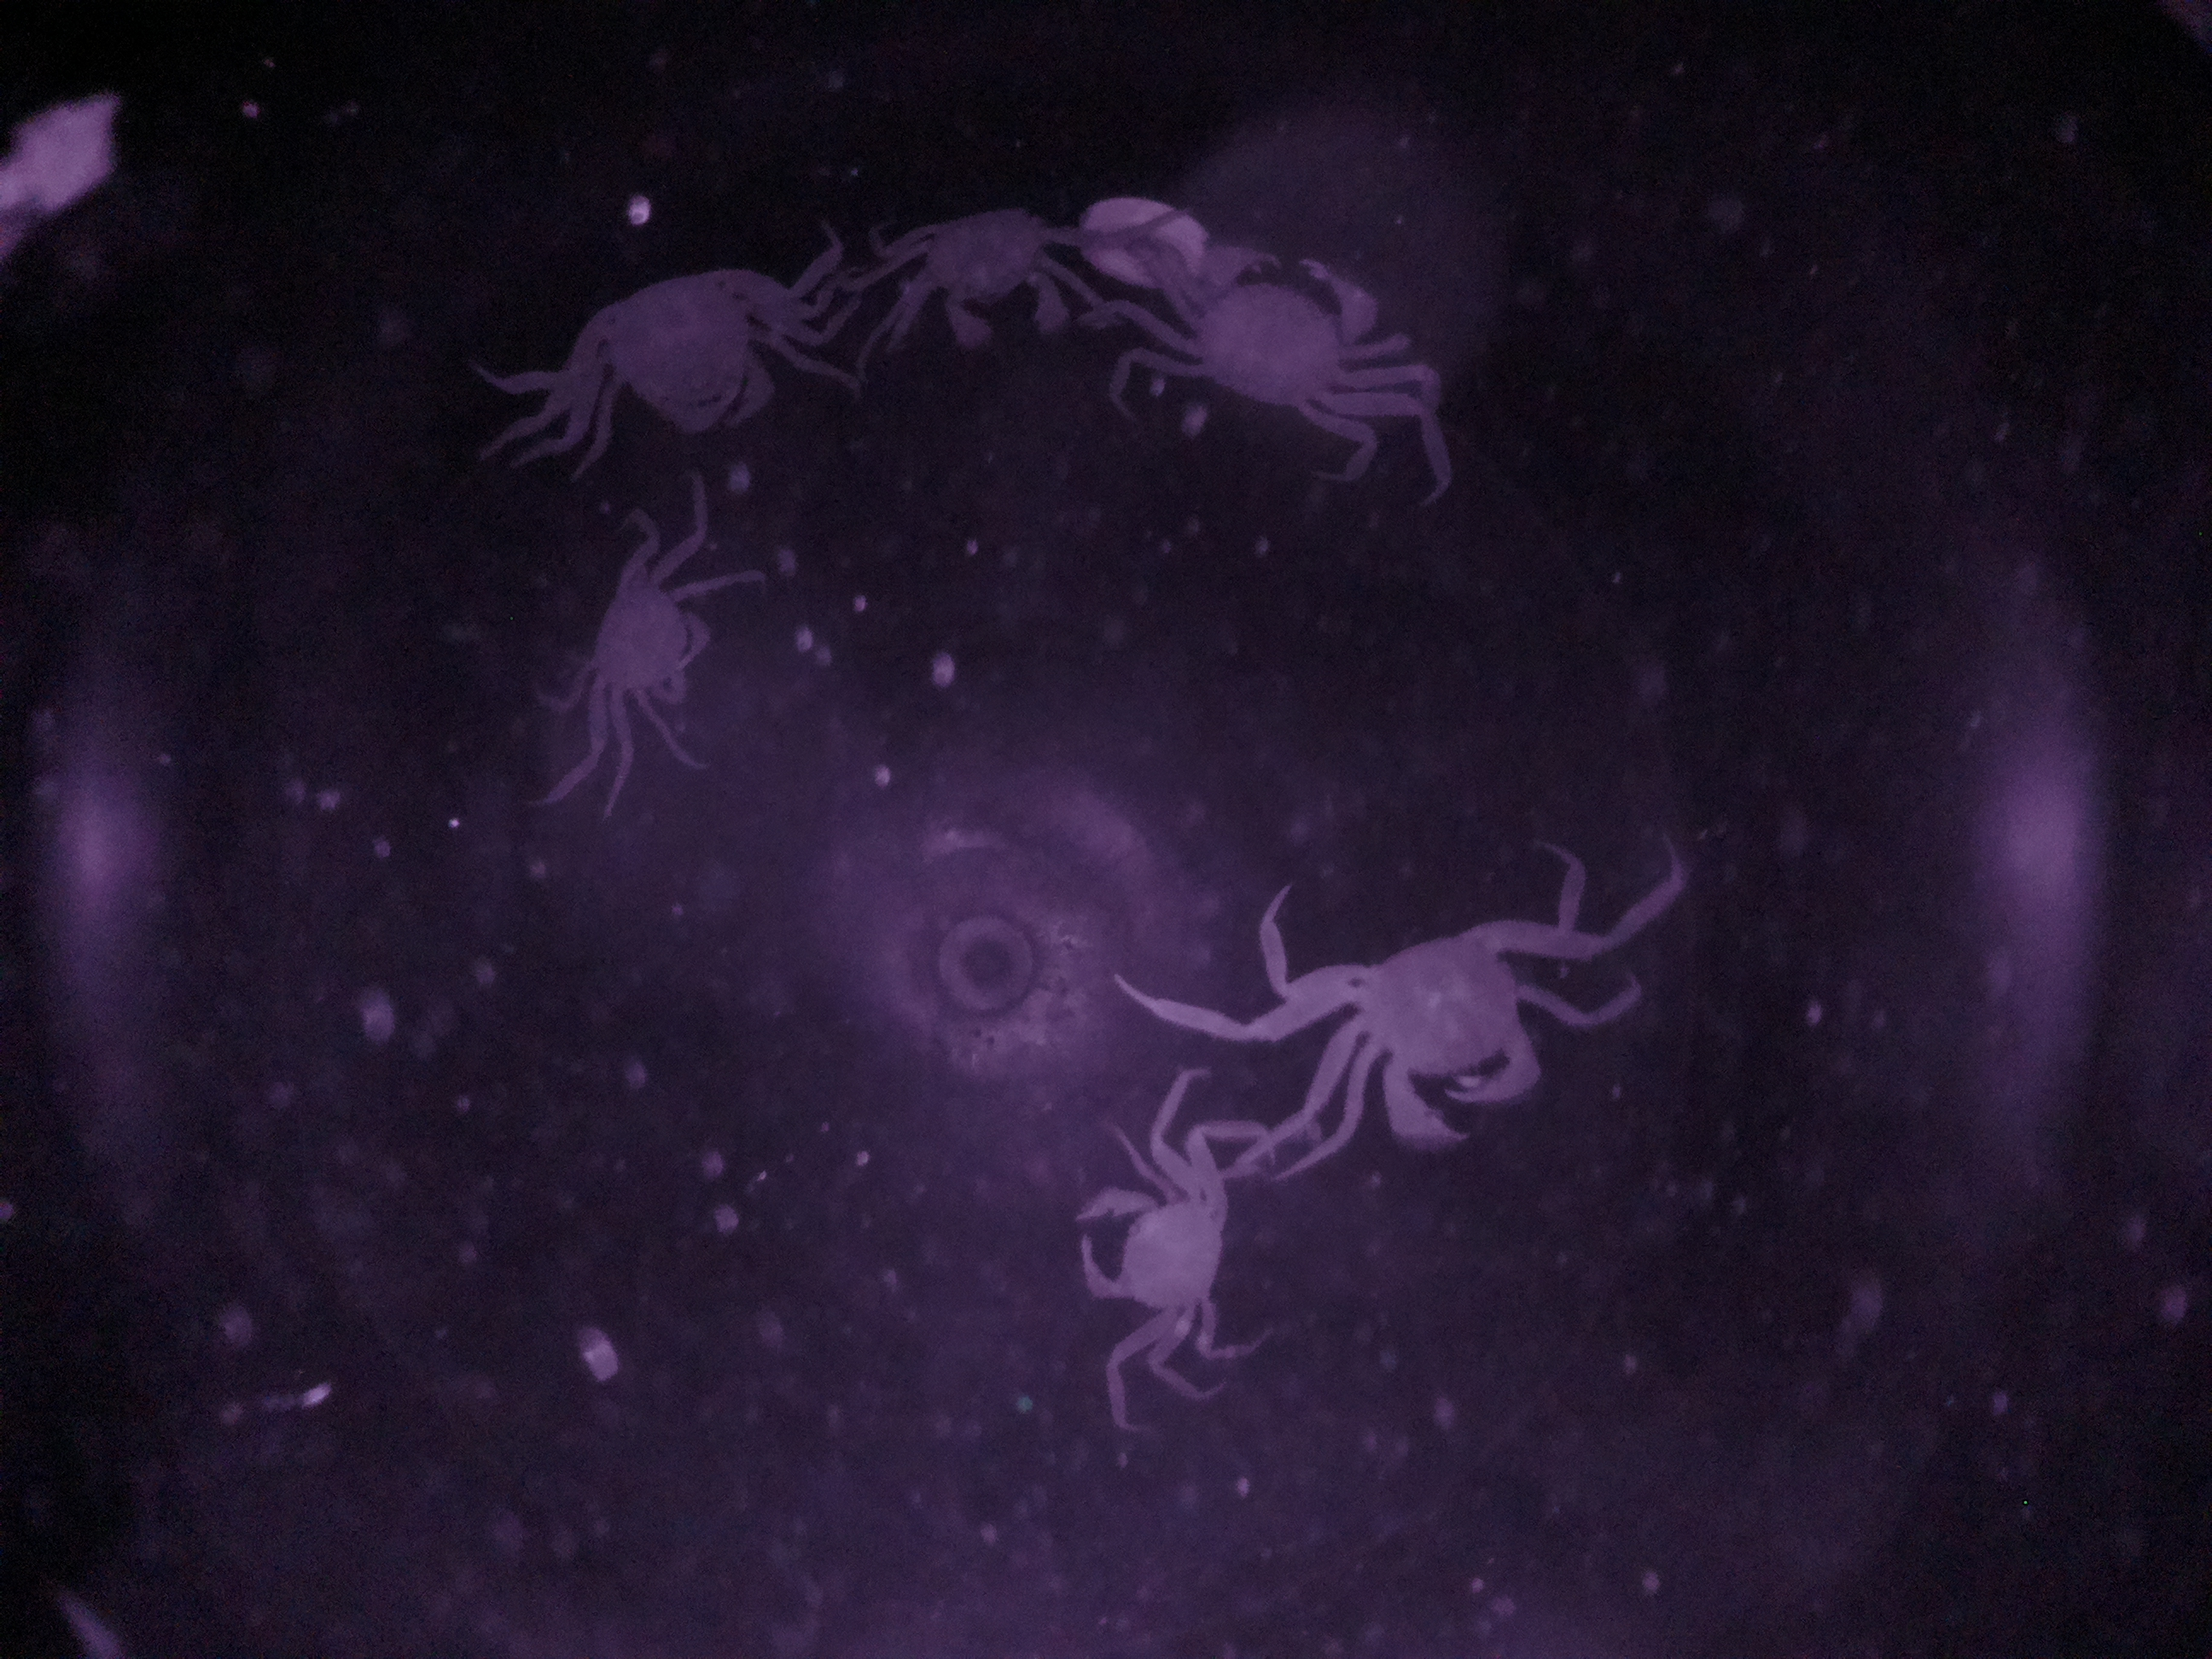Crab: (1305, 906, 1602, 1185), (1150, 230, 1425, 446), (1064, 1121, 1244, 1403), (883, 179, 1099, 366), (577, 528, 733, 763)
